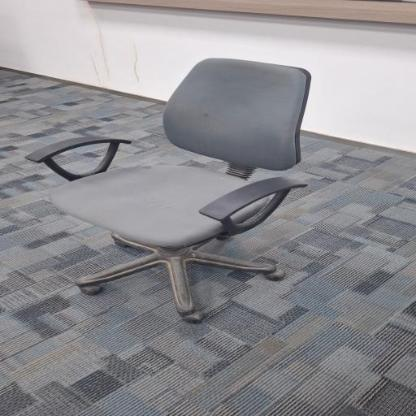chair: (23, 54, 316, 321)
